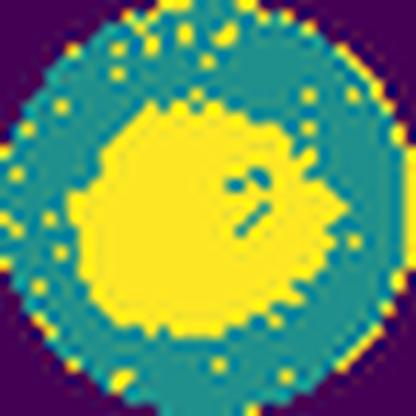Center: (69, 97, 352, 343)
